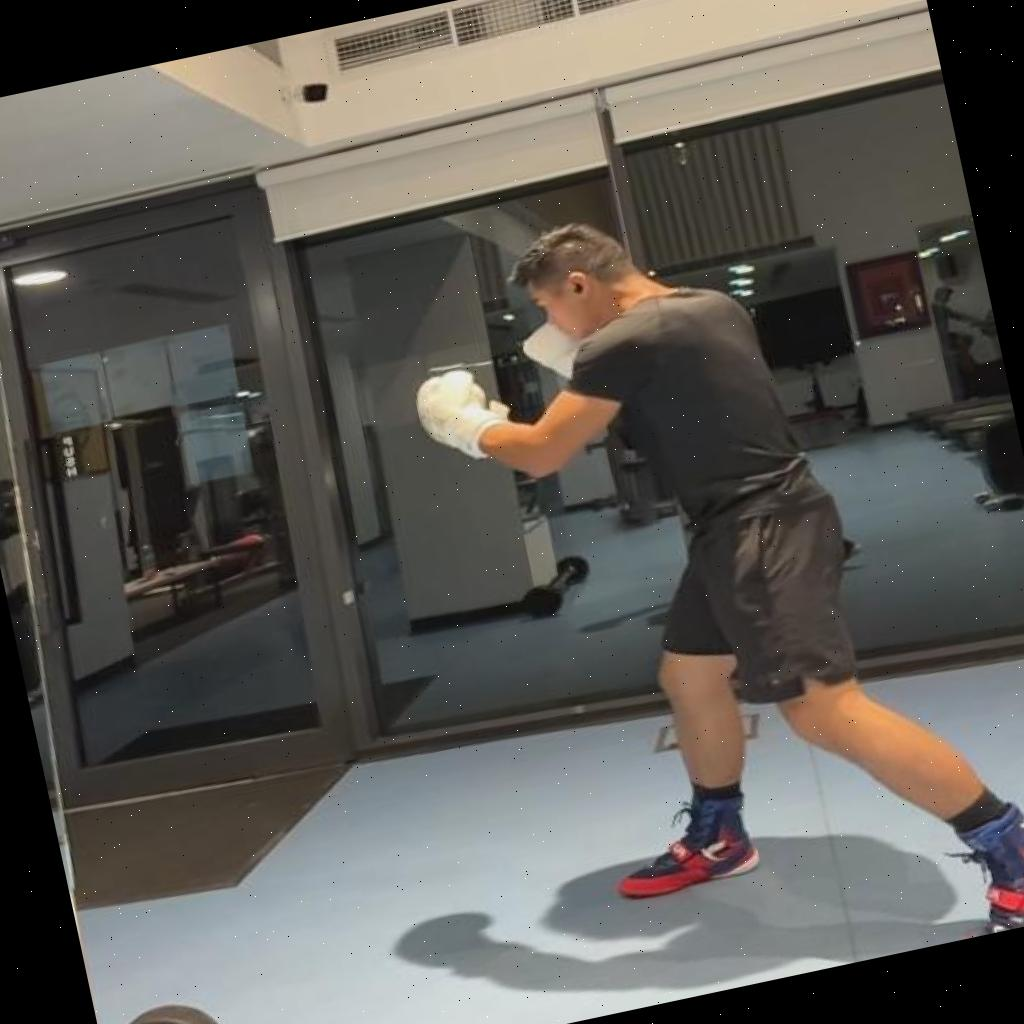uppercut: (385, 141, 1024, 1024)
